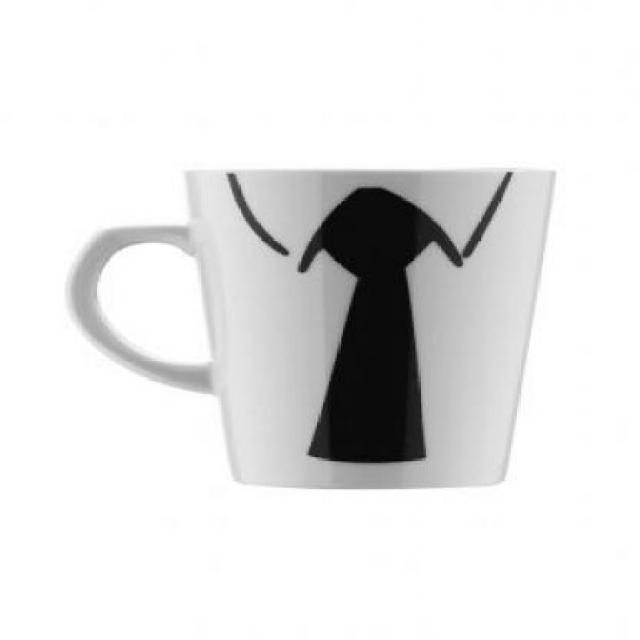taza: (67, 167, 558, 492)
